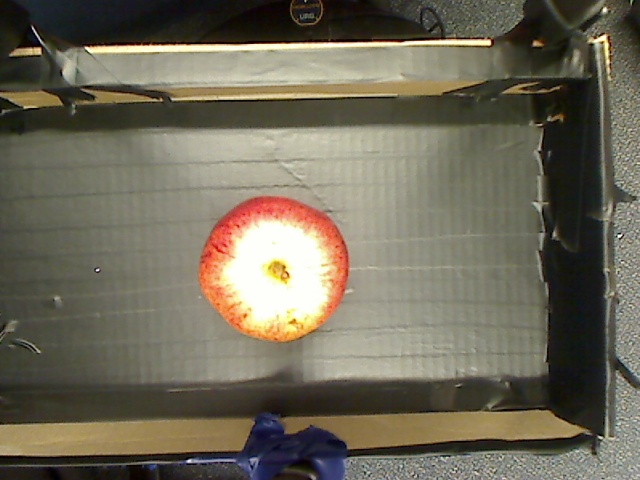apple: (190, 193, 355, 349)
